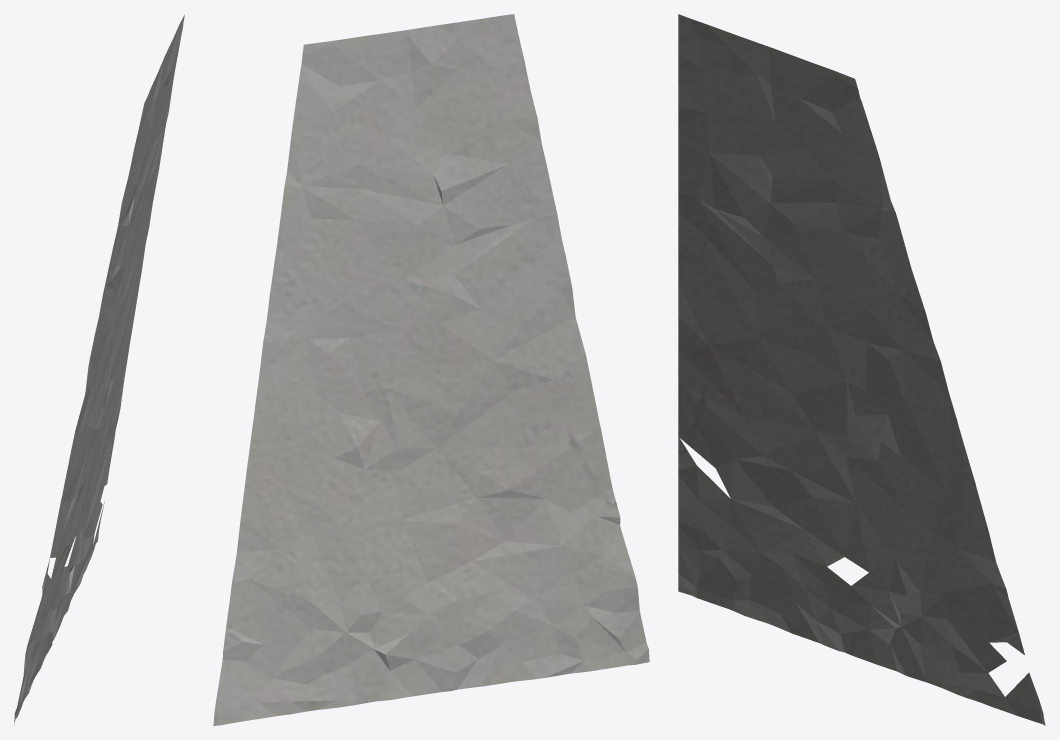
The picture shows the model from 3 angles, left to right: view 1: azimuth 30°, elevation 25°; view 2: azimuth 150°, elevation 25°; view 3: azimuth 270°, elevation 25°; orthographic projection. The views are drawn at different scales.
Size of the model in its own units: 0.373 by 0.8373 by 0.4309.
Materials: 2 (2 with a texture image).
